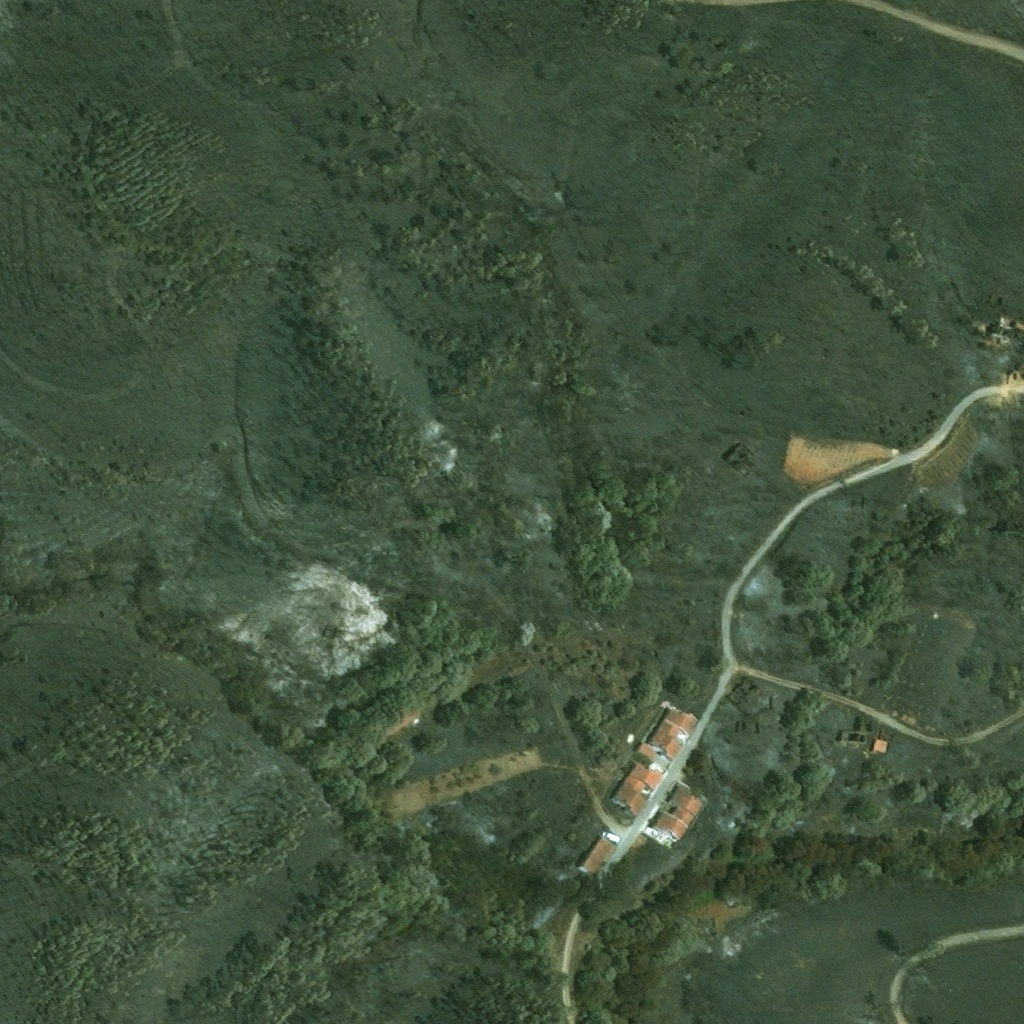0 no-damage: (649, 805, 696, 843), (611, 775, 652, 817), (647, 718, 688, 759), (576, 834, 613, 878), (629, 761, 665, 791), (668, 787, 705, 816), (662, 708, 697, 735), (635, 741, 656, 759)
3 destroyed: (977, 311, 1023, 351)
4 un-classified: (1013, 371, 1023, 385)
